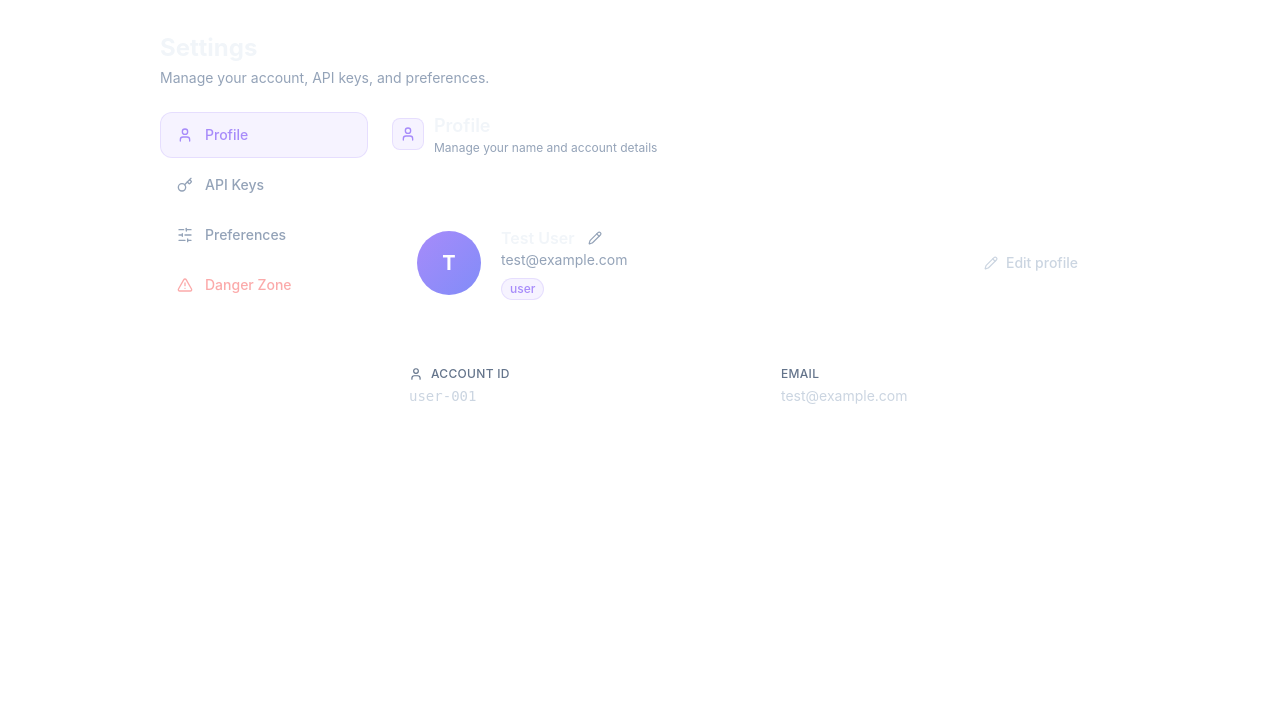
it: Generate API key modal › opens modal when "Generate new key" is clicked
Click the button "API Keys".
click(264, 185)  # box [160,162,368,208]
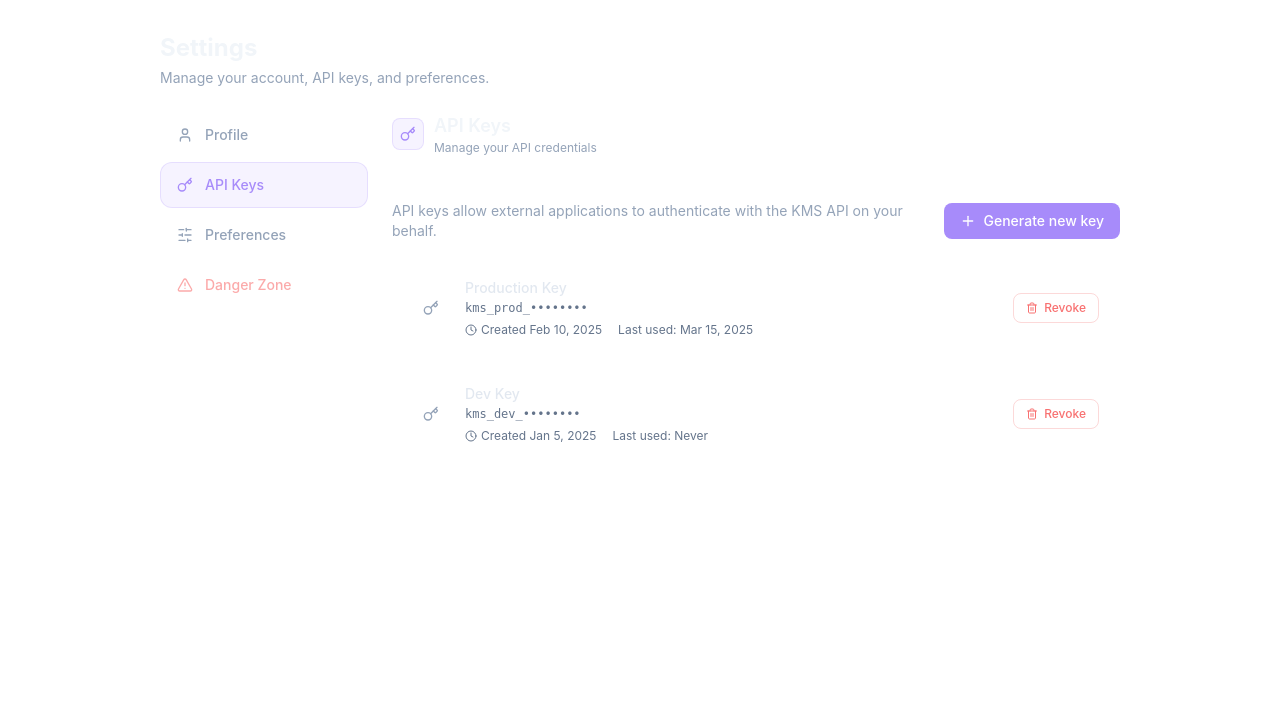
expect the text "Production Key" is shown: met, box [465,279,567,296]
Click the button "Generate new key".
click(1032, 221)  # box [944,203,1120,239]
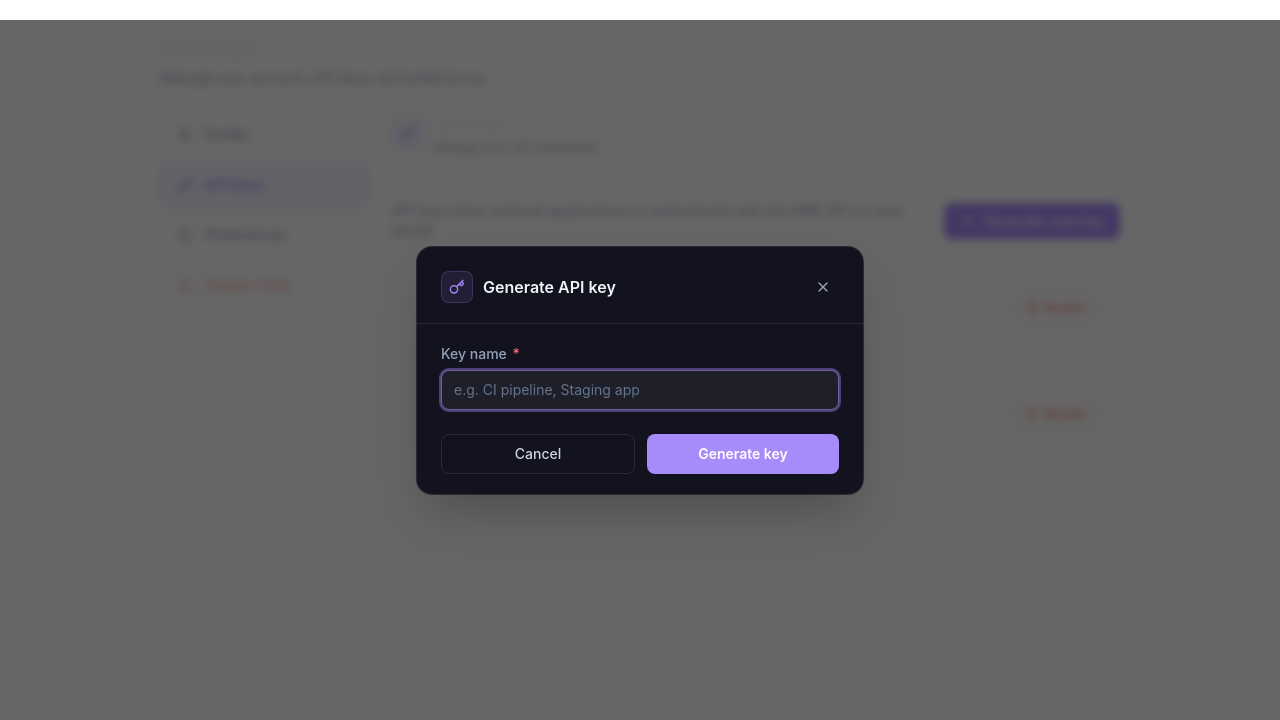
expect the dialog "Generate API key" is shown: met
